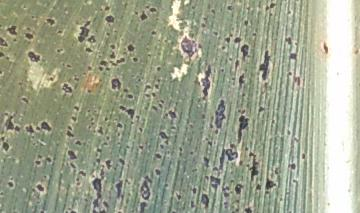tarspot: (179, 31, 204, 63), (232, 107, 253, 143), (257, 48, 274, 85), (199, 65, 214, 104), (217, 146, 238, 173), (89, 176, 103, 213), (3, 110, 22, 135), (72, 17, 91, 42), (138, 172, 154, 201), (116, 101, 136, 121), (24, 47, 45, 66), (34, 118, 53, 139), (214, 98, 226, 131), (203, 173, 222, 193), (249, 154, 262, 181), (113, 176, 125, 202), (263, 176, 278, 195), (157, 128, 173, 144), (59, 81, 73, 98), (238, 43, 251, 61), (236, 71, 247, 92), (284, 33, 299, 48), (1, 134, 12, 154), (109, 75, 121, 93), (320, 39, 332, 57), (43, 14, 58, 28), (65, 147, 79, 162), (164, 109, 180, 122), (4, 24, 18, 38), (201, 154, 213, 170), (199, 192, 211, 208), (136, 200, 150, 213), (5, 176, 17, 191), (233, 182, 246, 195), (207, 114, 216, 132), (24, 122, 34, 138), (287, 50, 299, 63), (171, 189, 183, 202), (1, 35, 12, 49), (62, 129, 76, 140), (22, 31, 37, 41), (19, 94, 31, 106), (287, 160, 299, 172), (103, 196, 112, 212), (36, 180, 47, 193), (103, 14, 116, 25), (264, 2, 278, 12), (116, 156, 128, 167), (103, 157, 114, 169), (95, 126, 108, 136), (139, 10, 149, 23), (144, 3, 157, 13), (209, 27, 220, 38), (125, 42, 137, 52), (87, 35, 97, 47), (69, 113, 79, 125), (149, 102, 159, 114), (114, 121, 127, 130), (242, 204, 255, 213), (254, 181, 263, 194), (232, 58, 241, 71), (153, 151, 163, 162), (299, 151, 309, 162), (93, 145, 104, 155), (188, 185, 199, 195), (107, 50, 118, 60), (63, 61, 75, 70), (76, 168, 88, 177), (83, 46, 96, 54), (224, 4, 237, 12), (44, 155, 54, 165), (187, 200, 197, 210), (217, 65, 227, 75), (233, 34, 243, 44), (71, 103, 82, 112), (153, 81, 162, 92), (291, 176, 300, 187), (62, 123, 76, 130), (66, 162, 78, 170), (47, 74, 56, 84), (153, 63, 163, 72), (241, 16, 250, 26), (251, 29, 261, 38), (205, 137, 214, 147), (144, 82, 153, 92), (97, 59, 112, 65), (187, 148, 196, 158), (131, 8, 141, 17), (71, 75, 82, 83), (131, 54, 139, 65), (157, 143, 168, 151), (54, 47, 66, 54), (142, 93, 154, 100), (153, 167, 162, 176), (209, 8, 218, 17), (199, 21, 208, 30), (224, 35, 233, 44), (284, 8, 293, 17), (223, 183, 232, 192), (33, 159, 43, 167), (103, 3, 111, 13), (122, 85, 130, 95), (137, 142, 145, 152), (220, 43, 228, 53), (234, 196, 242, 206), (118, 55, 128, 63), (41, 173, 51, 181), (30, 185, 37, 196), (189, 2, 196, 13), (85, 87, 93, 96), (149, 28, 157, 37), (103, 29, 111, 38), (102, 114, 111, 122), (257, 104, 266, 112), (162, 181, 171, 189), (108, 41, 117, 49), (237, 158, 245, 167), (105, 64, 114, 72), (229, 75, 238, 83), (86, 63, 93, 73), (138, 125, 145, 135), (64, 208, 78, 213), (114, 130, 124, 137), (93, 158, 104, 164), (221, 191, 232, 197), (21, 2, 28, 11), (38, 206, 47, 213), (57, 26, 64, 35), (74, 180, 83, 187), (285, 127, 292, 136), (96, 66, 105, 73), (178, 143, 185, 152), (286, 70, 296, 76), (113, 208, 125, 213), (17, 80, 24, 88), (1, 67, 6, 77), (136, 113, 141, 123), (29, 13, 36, 20), (243, 145, 250, 152), (169, 208, 178, 213), (1, 50, 5, 59), (36, 152, 42, 158), (125, 143, 129, 151), (1, 189, 4, 197)
